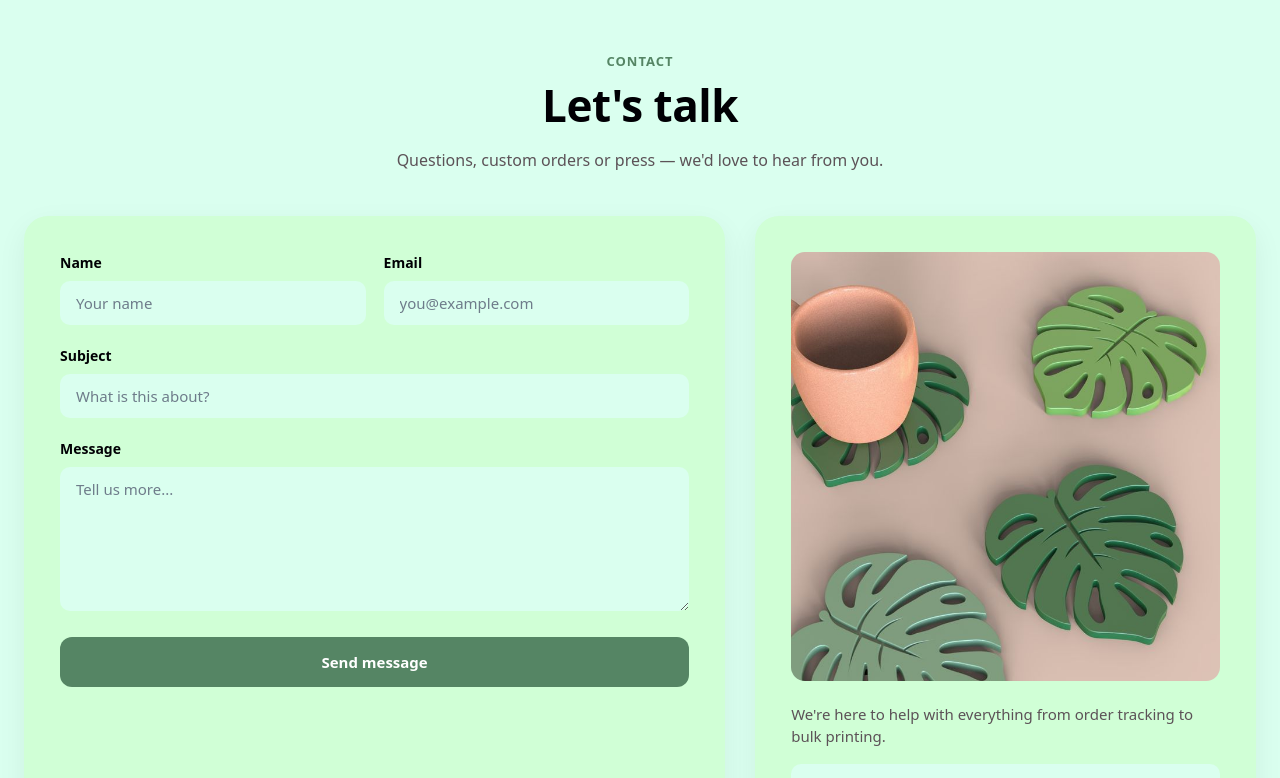
it: Contact view › shows a success message after a valid submit
Type "Jane" into the field labelled "Name" at x=213, y=303, box [60,281,366,325]
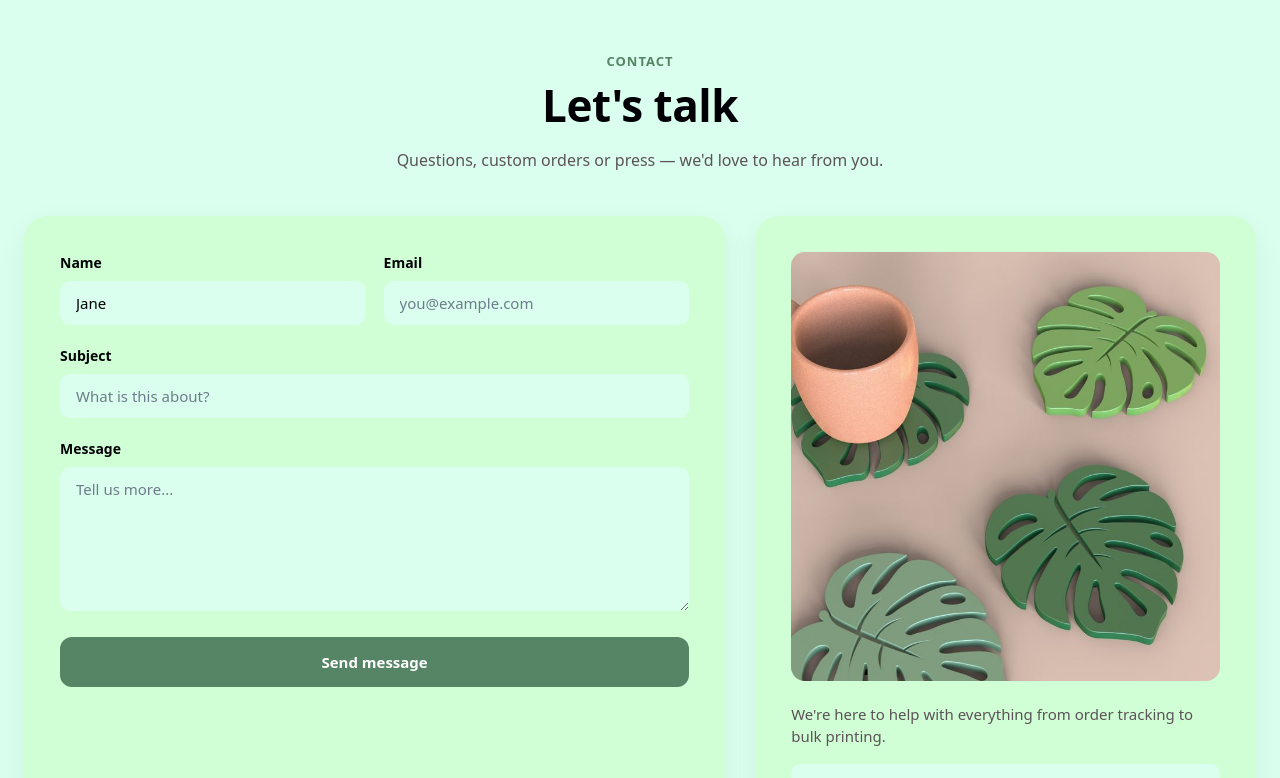
Type "jane@x.com" into the field labelled "Email" at x=536, y=303, box [384,281,689,325]
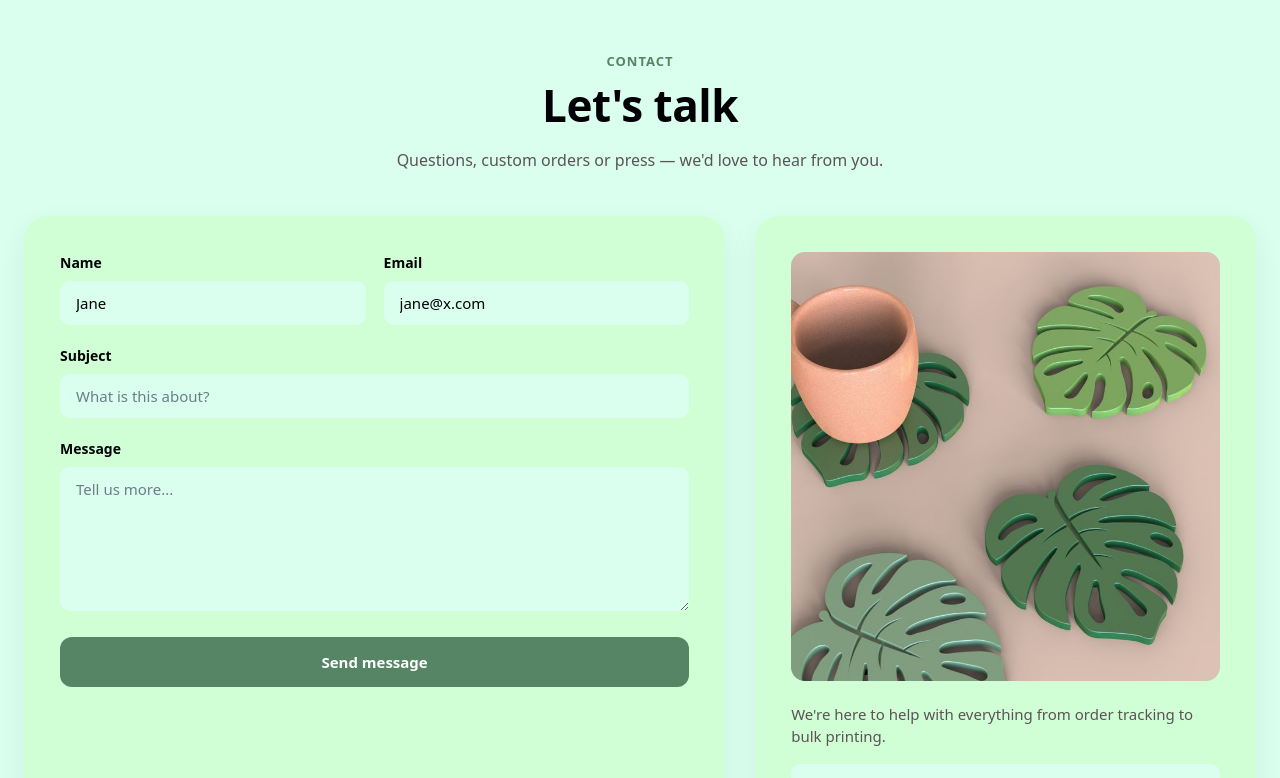
Type "Hello there" into the text box labelled "Message" at x=375, y=539, box [60,467,689,611]
(page scrolled)
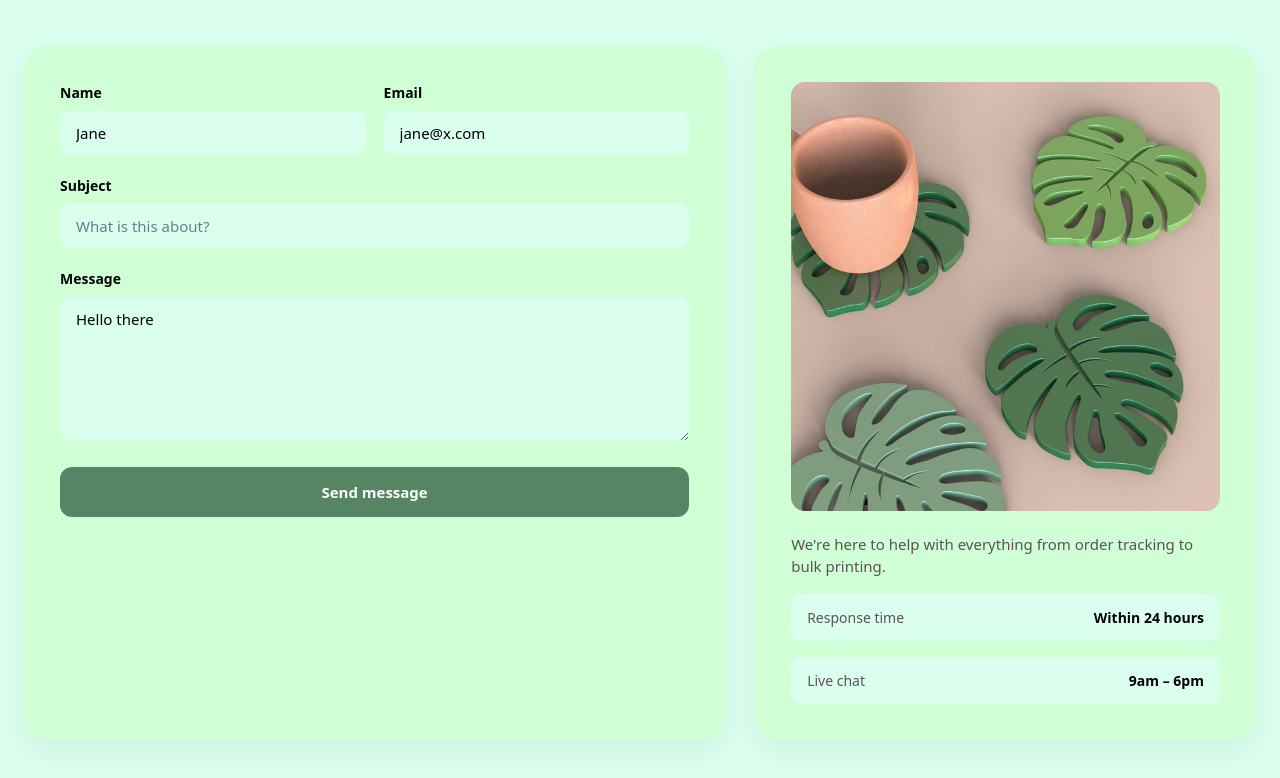
Submit the form, box [24,46,725,740]
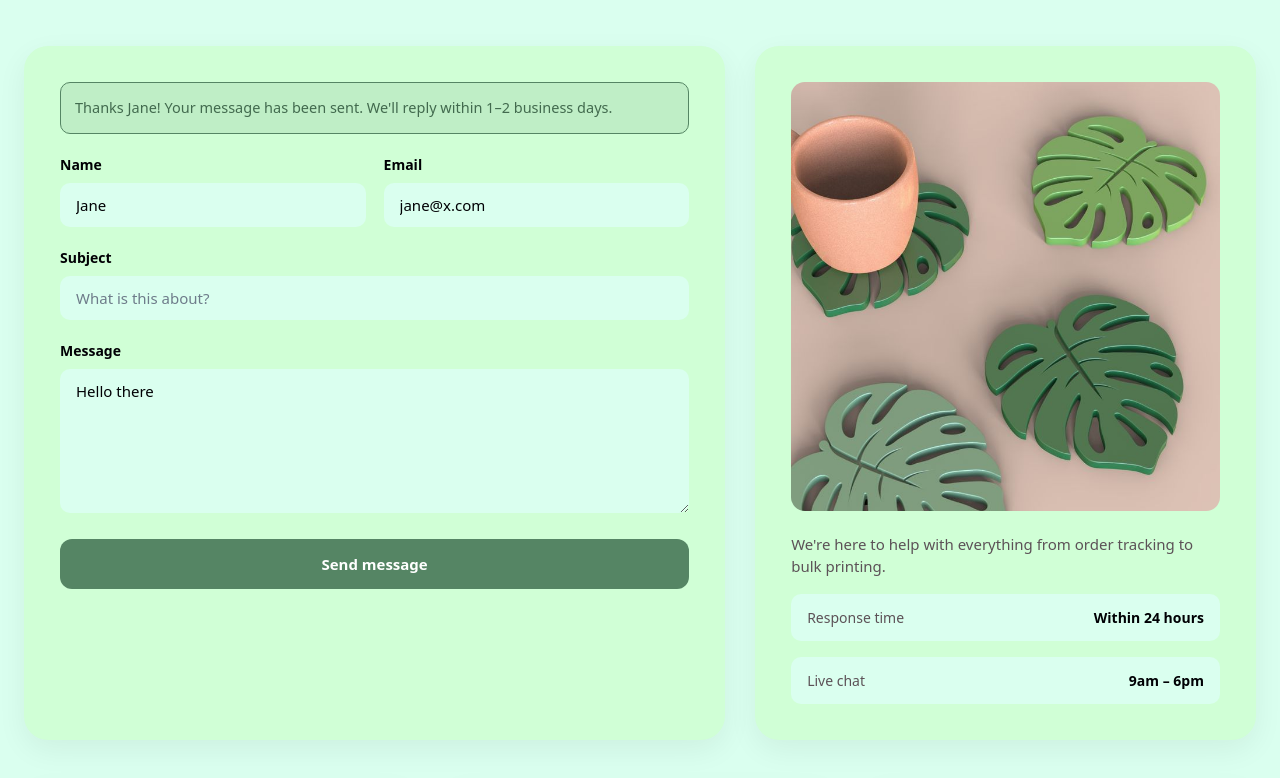
expect the message "Thanks Jane! Your message has been sent. We'll reply within 1–2 business days." is shown: met, box [60,82,689,134]
expect the text "Thanks Jane!" is shown: met, box [75,97,612,117]
